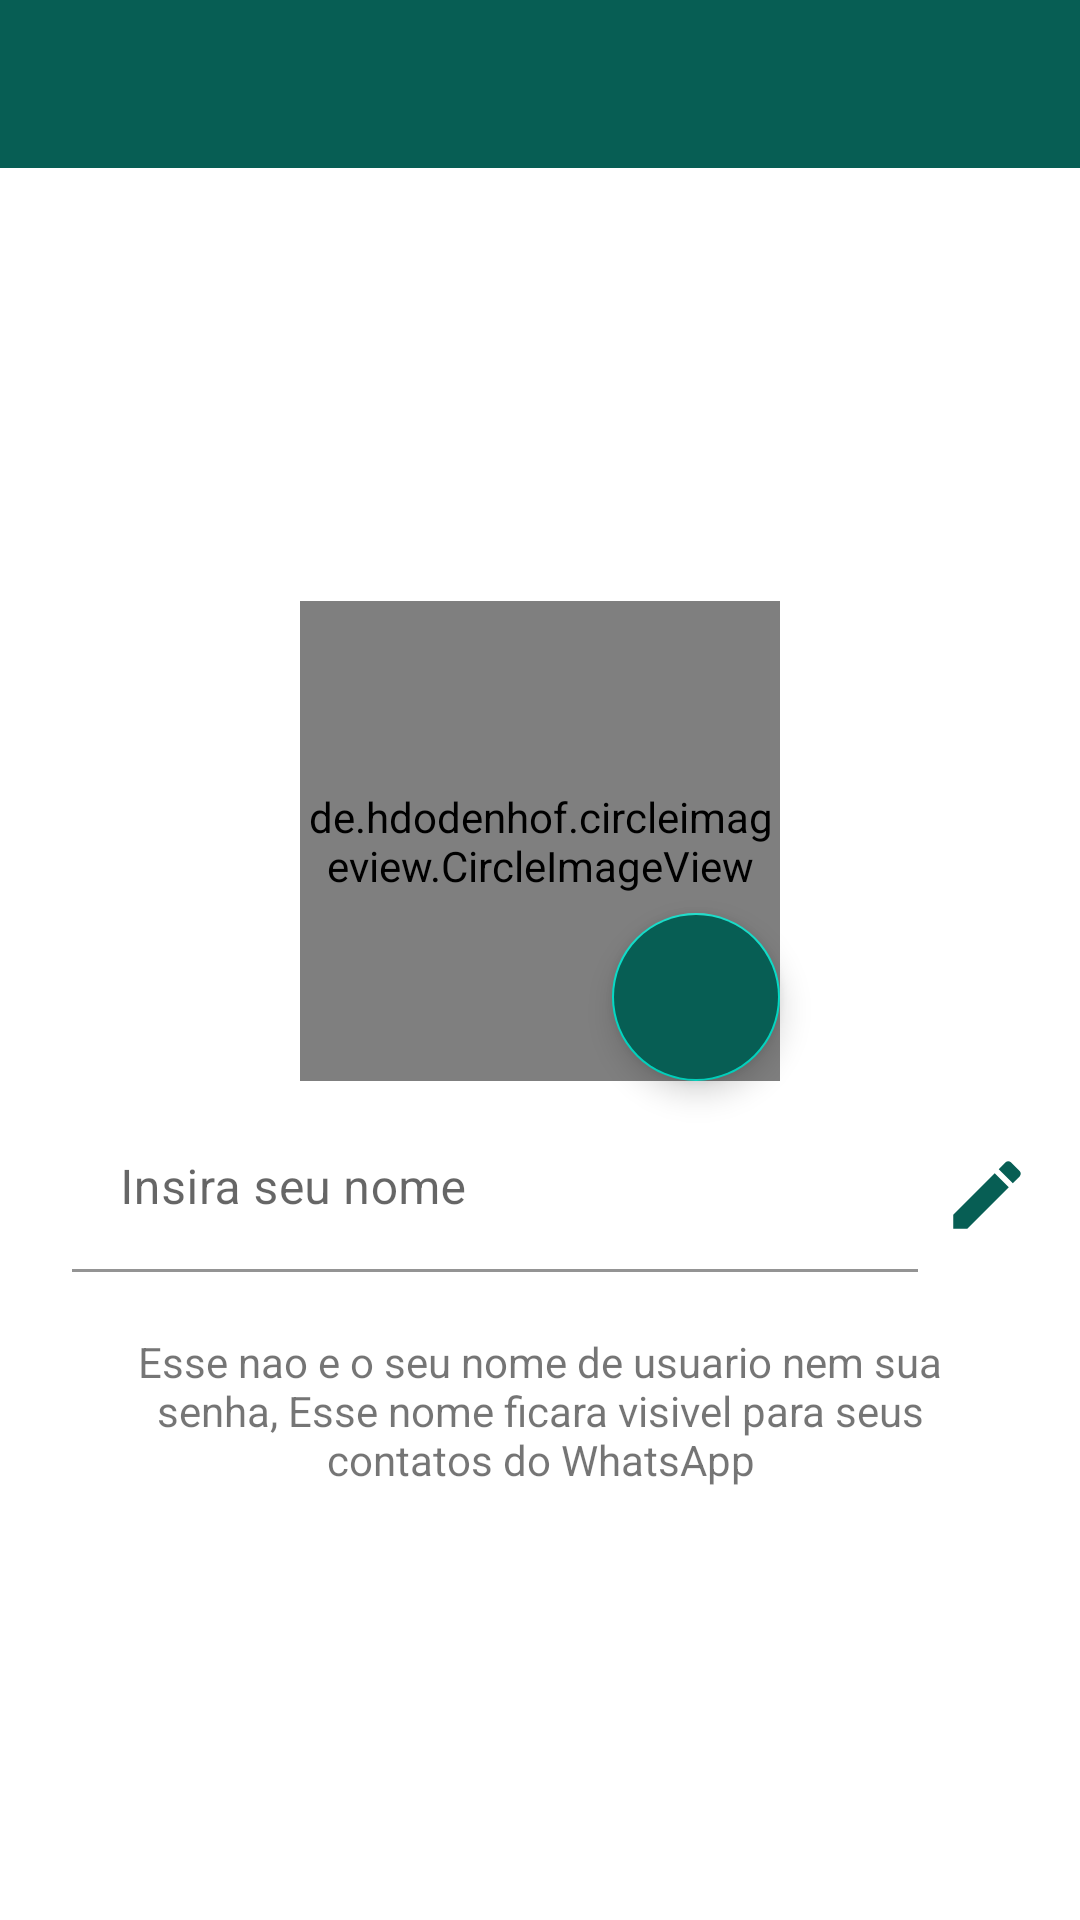

Icon bounding boxes for this 1080w x 1920h phone screenshot, format rect(x1, y1, x2, y2):
edit verde: rect(953, 1161, 1021, 1229)
